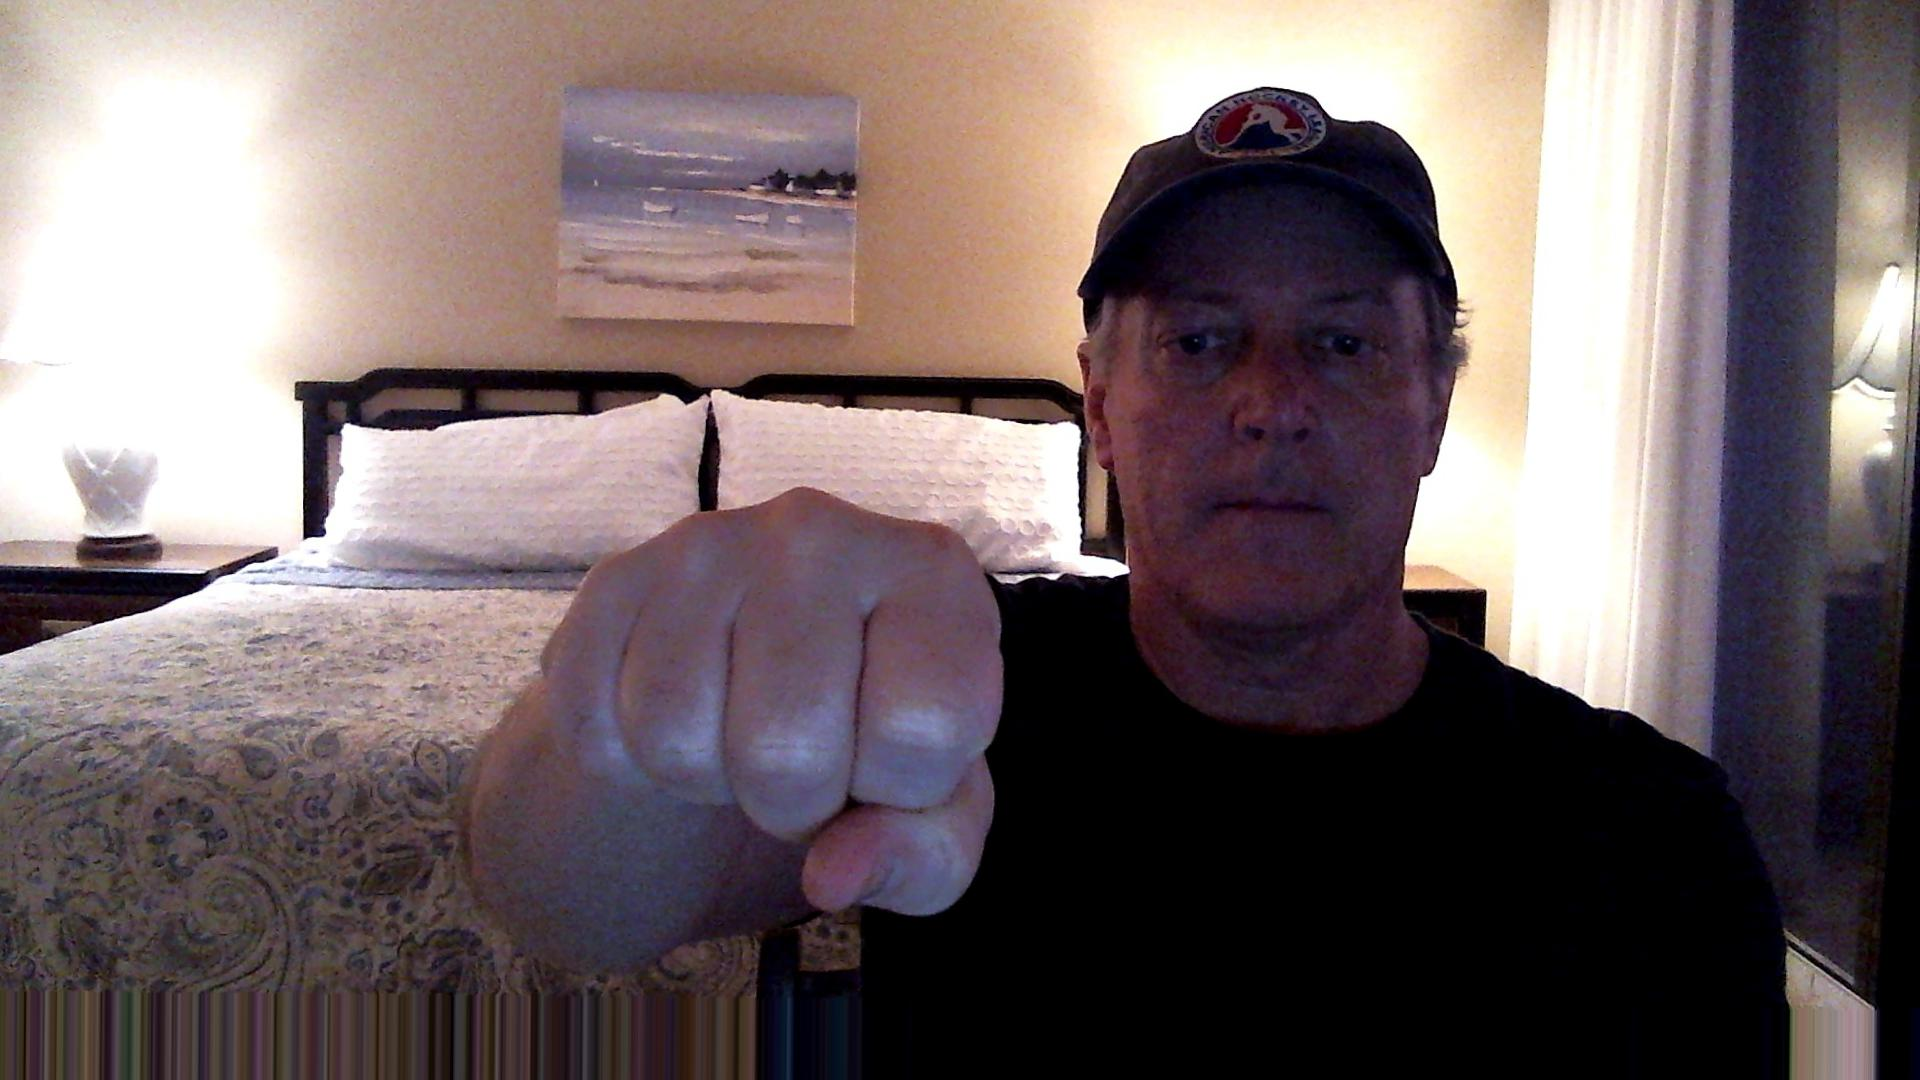Yes: (517, 469, 1025, 930)
